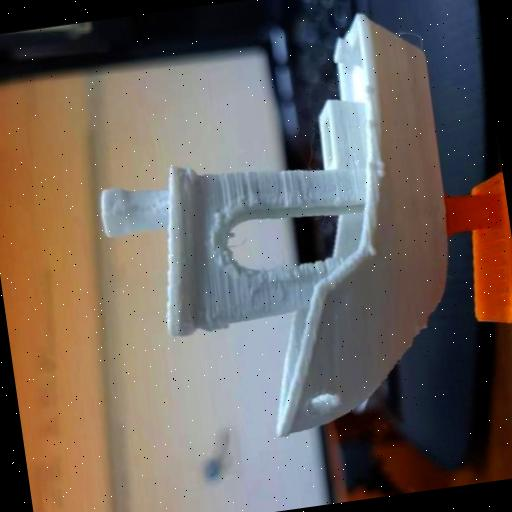blobs: (371, 152, 392, 180), (367, 239, 382, 258)
